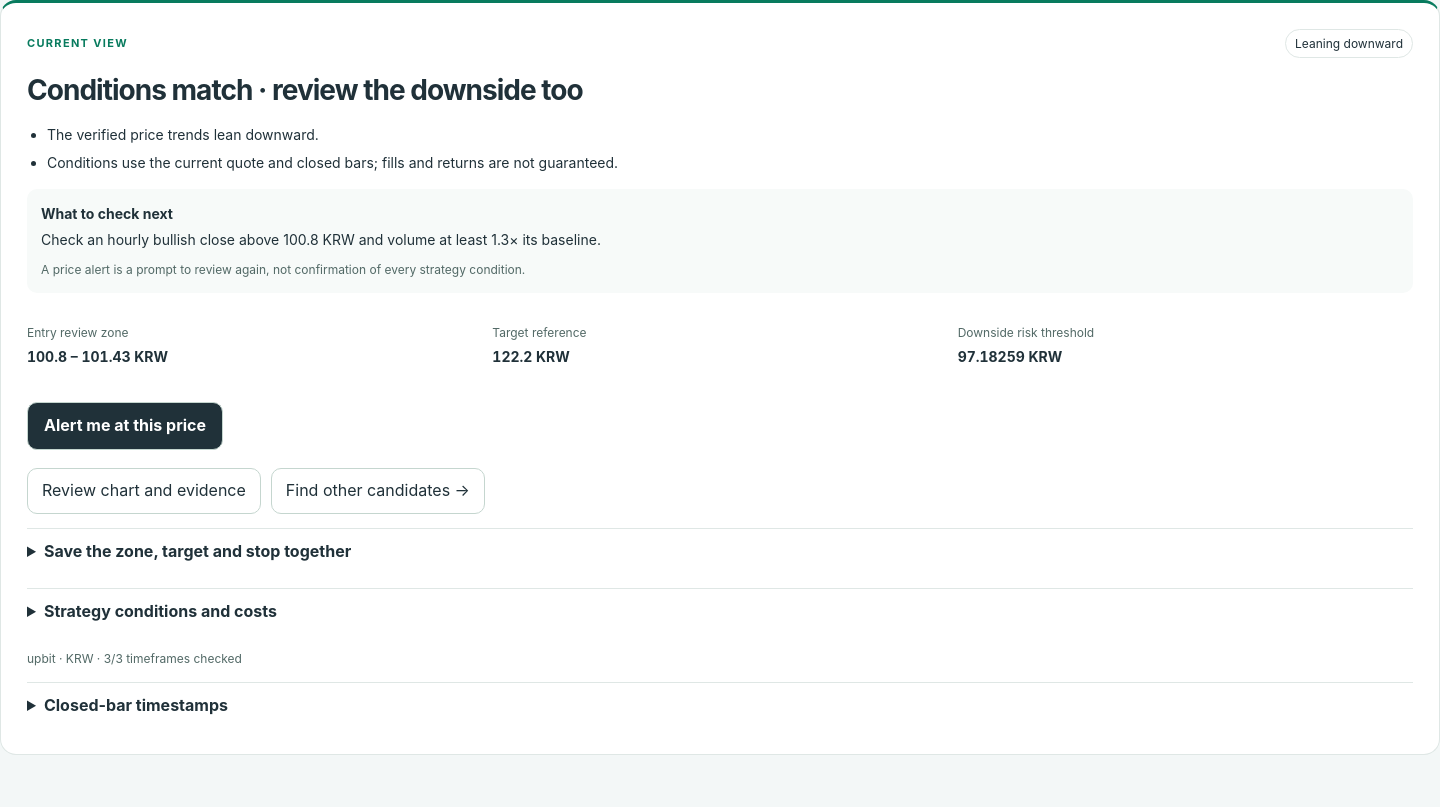
Test: withholds saving when the edited cost assumption is outside the supported range
This screenshot has width=1440, height=807.
Click the heading "Strategy conditions and costs" at [160, 611], box [44, 601, 277, 621]
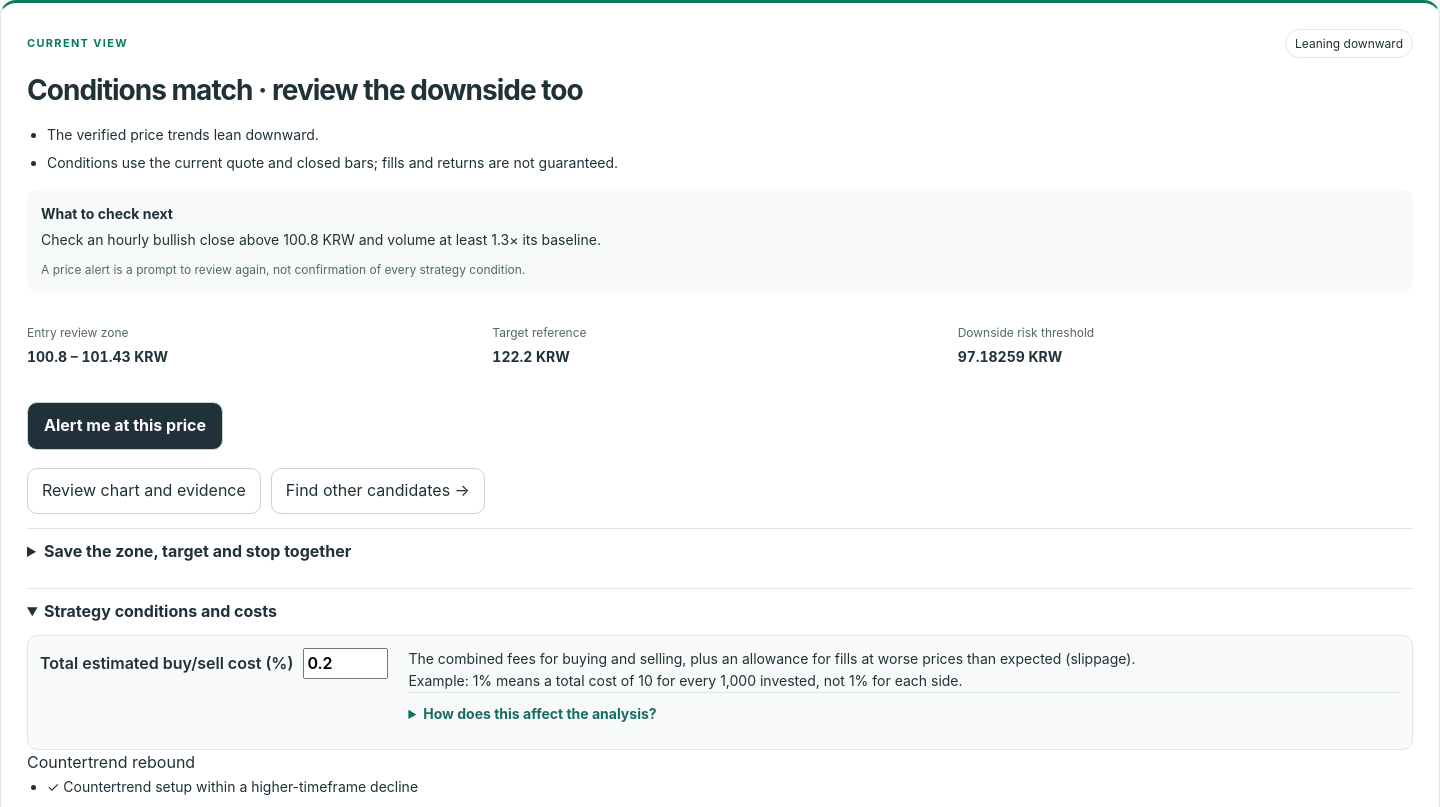
Replace the text in the number field with "4" at [346, 664], box [303, 648, 388, 679]
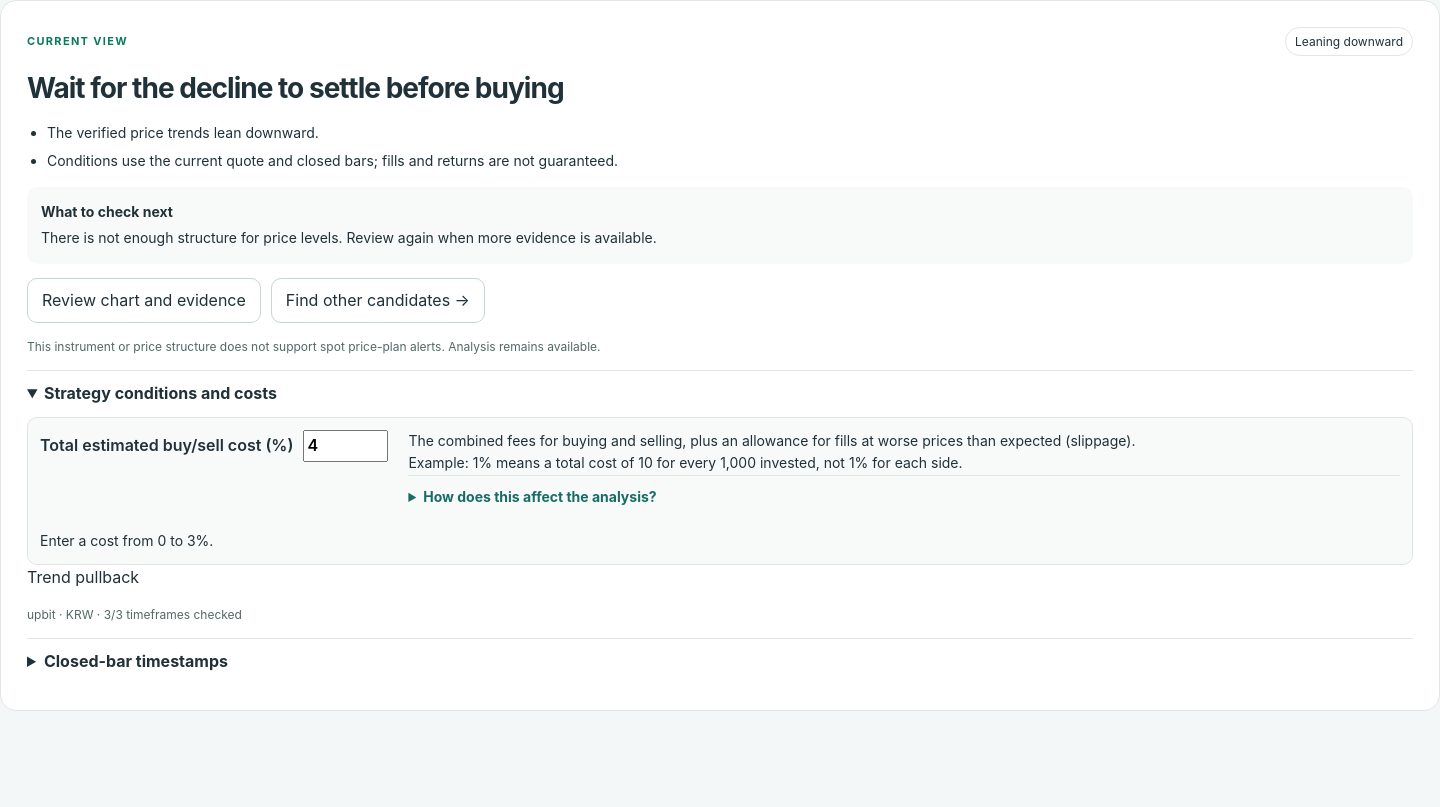
expect the message shows "0 to 3%": met, box [40, 532, 213, 549]
expect the heading "Save the zone, target and stop together" is gone: met
